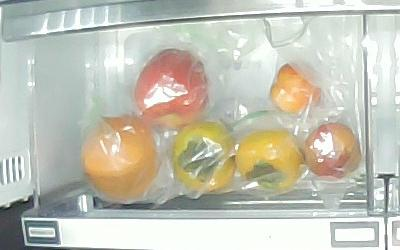apple_vinyl: (135, 49, 208, 126)
grapefruit_vinyl: (82, 116, 158, 200)
persimmon_vinyl: (171, 122, 235, 194), (236, 129, 303, 192)
prune_vinyl: (301, 123, 359, 178), (270, 64, 321, 114)
